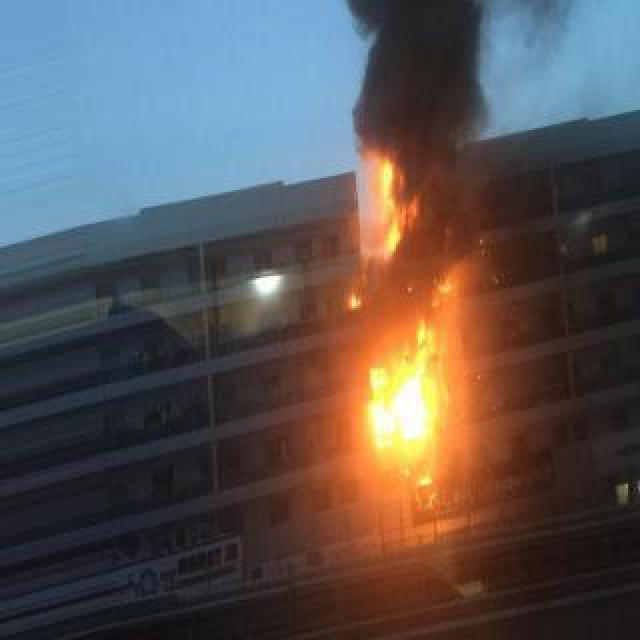Fire: (364, 328, 446, 456), (372, 148, 406, 254), (342, 288, 364, 322)
Smoke: (332, 2, 512, 185)
